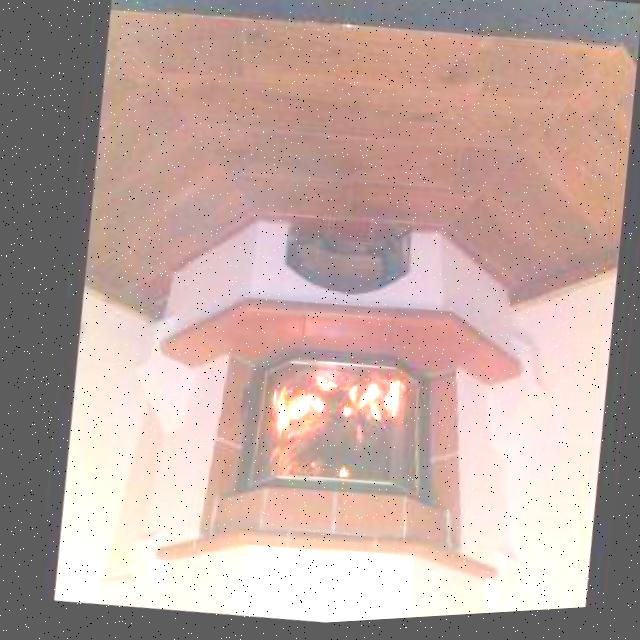Fire: (247, 356, 422, 514)
